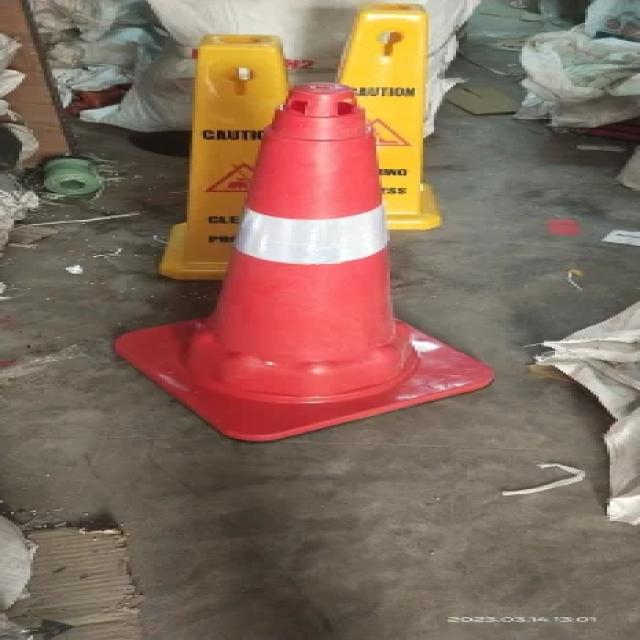Traffic Cone: (86, 73, 518, 457)
